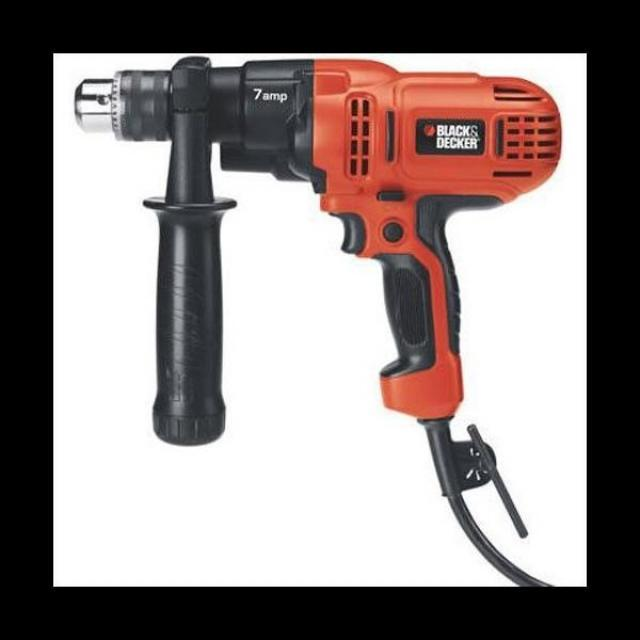drill: (73, 53, 562, 540)
